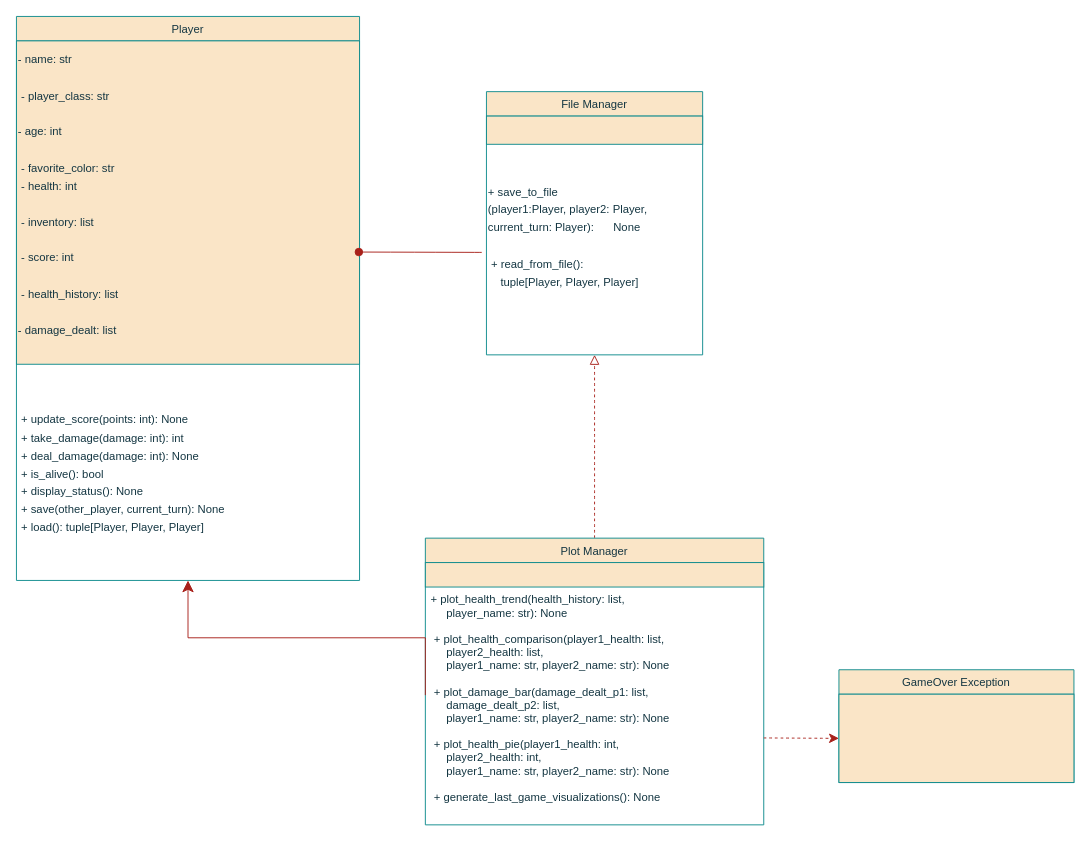
This 1090x851 diagram has some shape labels left out. Each missing label, with the centre of its shape:
"-filename:str" belongs at [594,129].
"Custom exception to cleanly exit game flow" belongs at [956,738].
"output_dir: str" belongs at [594,574].
